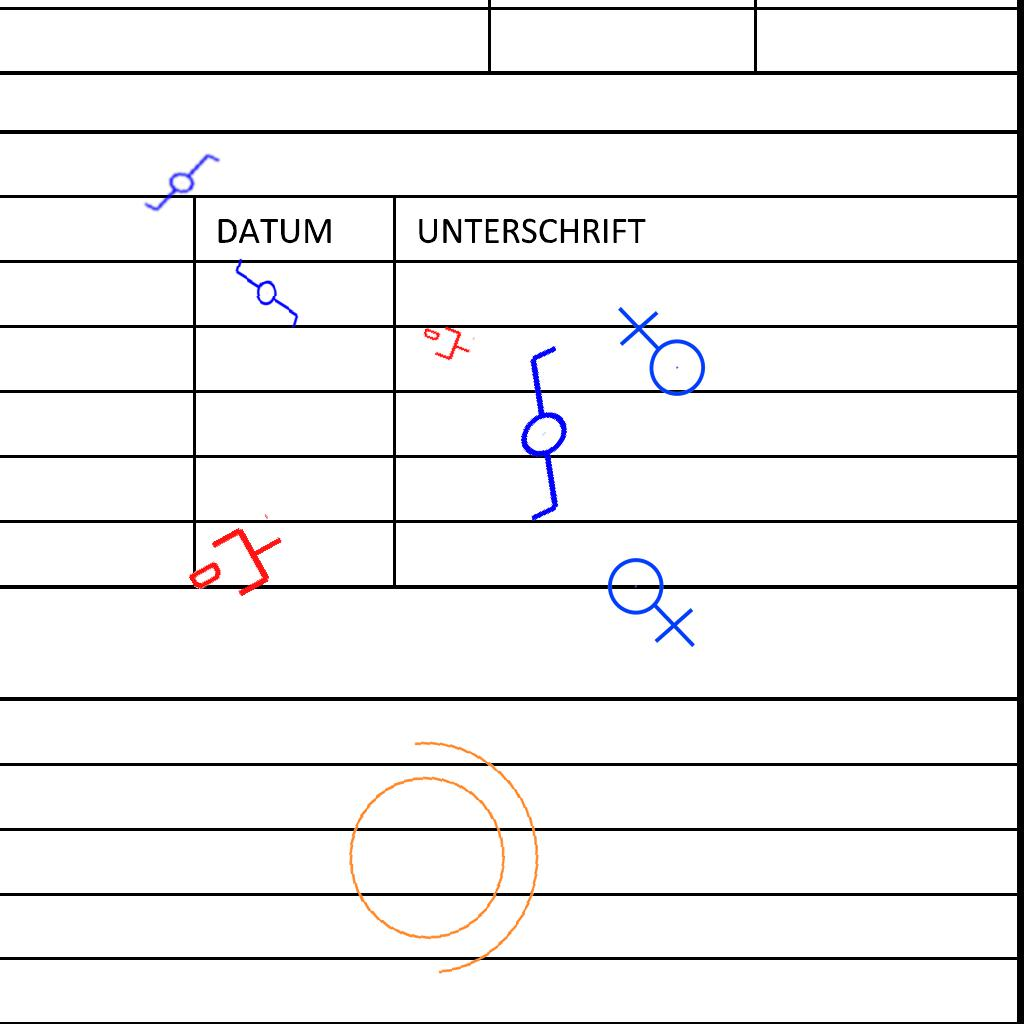Datenanschluss_einfach: (178, 508, 299, 618), (417, 318, 477, 368)
Elektroanschluss_allgemein_230V_Geraeteanschlussdose_230V: (606, 549, 700, 648), (613, 306, 707, 405)
Scheinwerfer_fuer_Alarmbeleuchtung: (310, 707, 562, 994)
Wechselschalter: (430, 332, 643, 544), (132, 138, 224, 224), (229, 247, 307, 331)
